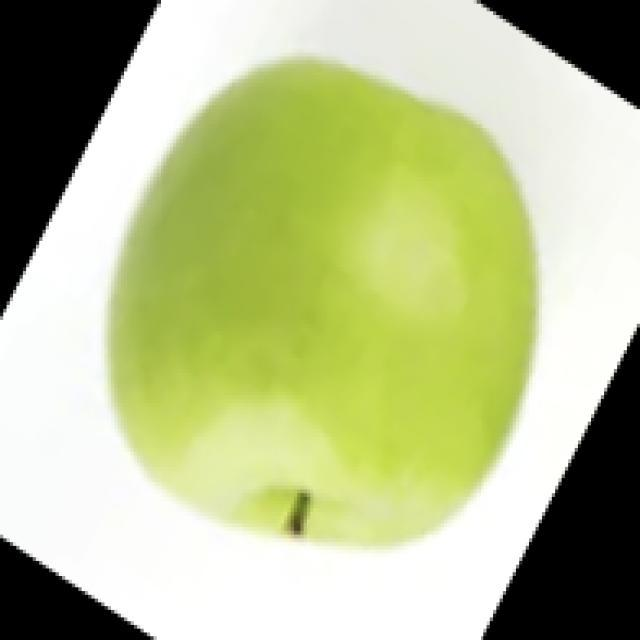Fresh Apple: (104, 55, 524, 532)
